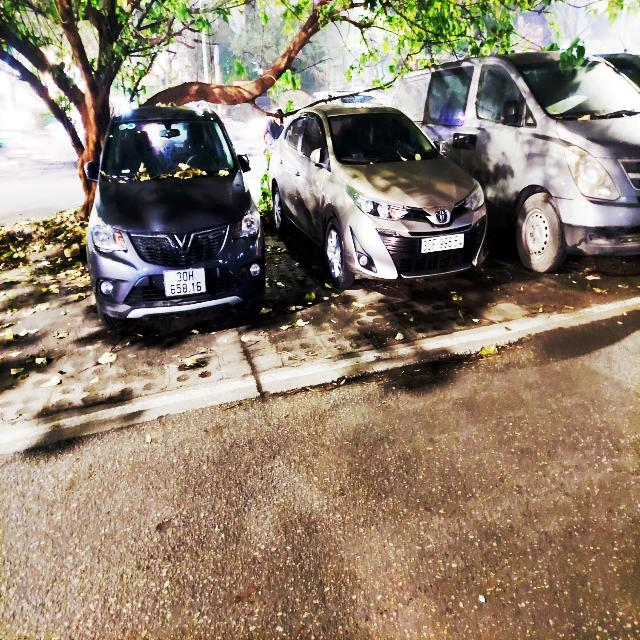license_plate: (163, 267, 208, 301), (422, 233, 466, 255)
